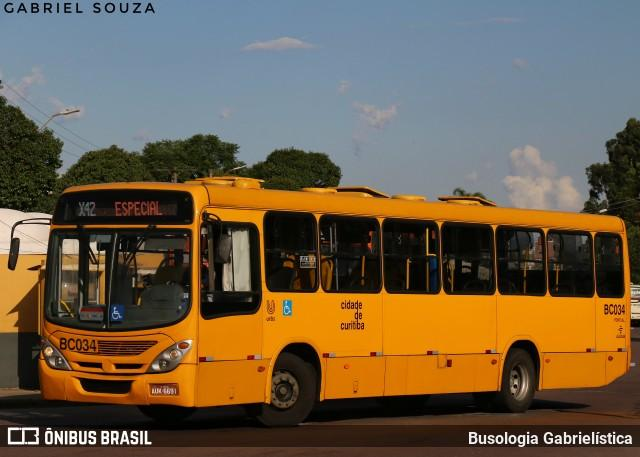ESPECIAL: (108, 197, 168, 220)
